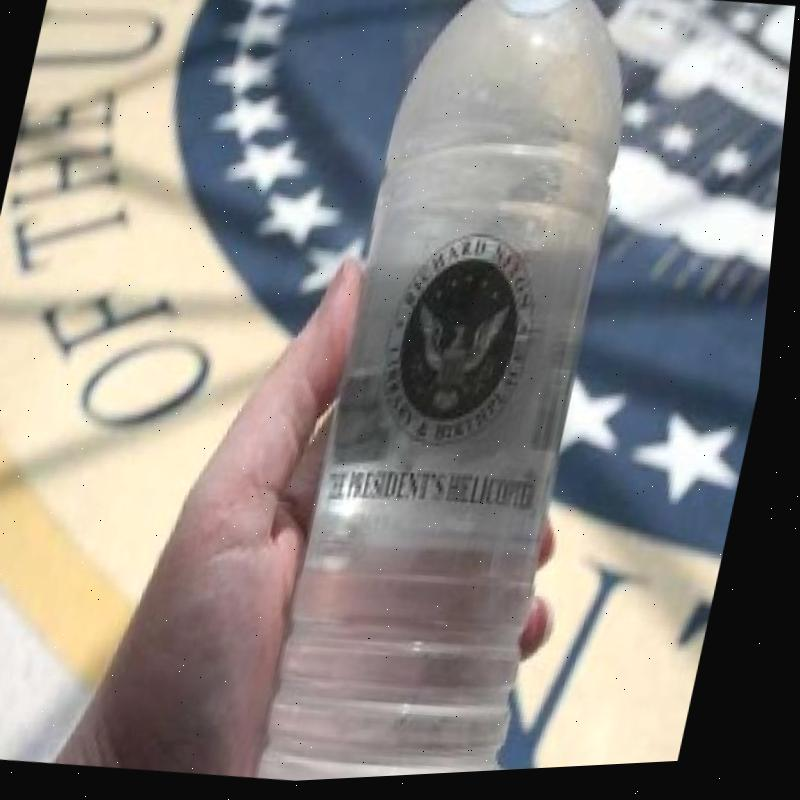botella: (260, 0, 671, 787)
